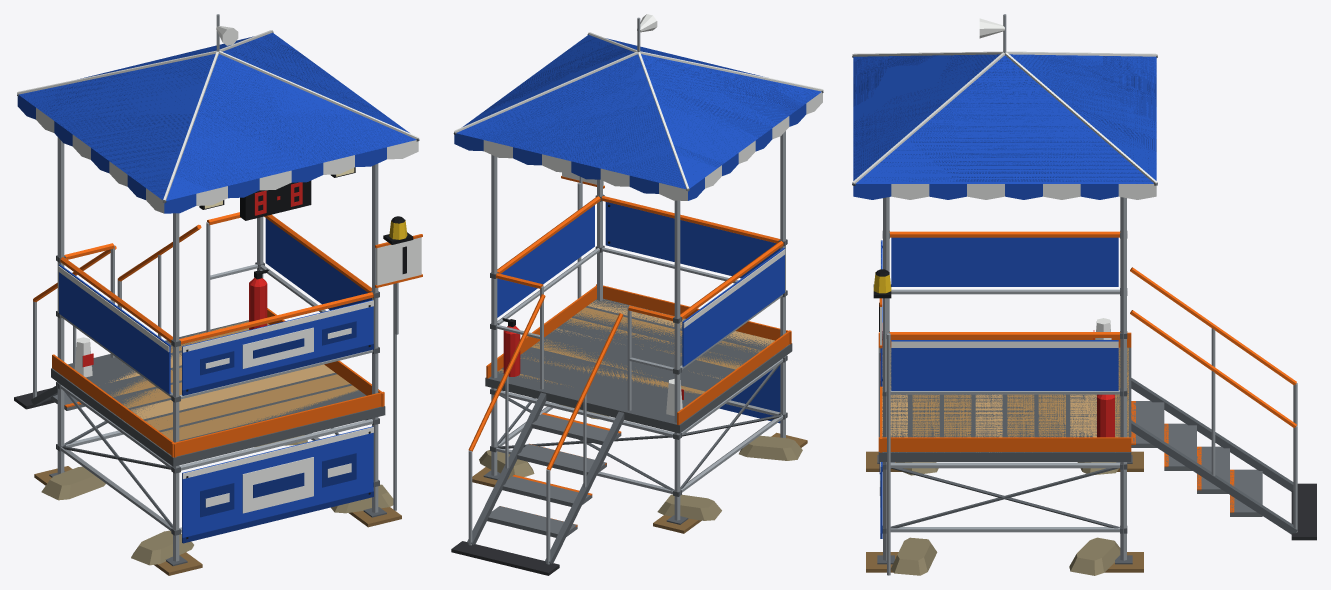
The model's file is stand_tower.glb.
3 renders of one model, left to right at view 1: azimuth 30°, elevation 25°; view 2: azimuth 150°, elevation 25°; view 3: azimuth 270°, elevation 25°, orthographic. The views are drawn at different scales.
Visible parts, largest first — view 1: Stand_Tower; view 2: Stand_Tower; view 3: Stand_Tower.
Part boxes in pixels (x1=…): Stand_Tower: x1=14, y1=14, x2=422, y2=575; Stand_Tower: x1=451, y1=14, x2=823, y2=575; Stand_Tower: x1=852, y1=14, x2=1316, y2=575.
Bounding box in the file's own units: 2.59 × 4.36 × 3.68.
